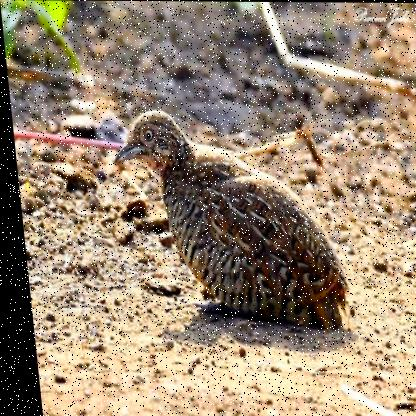Burung: (105, 108, 345, 329)
